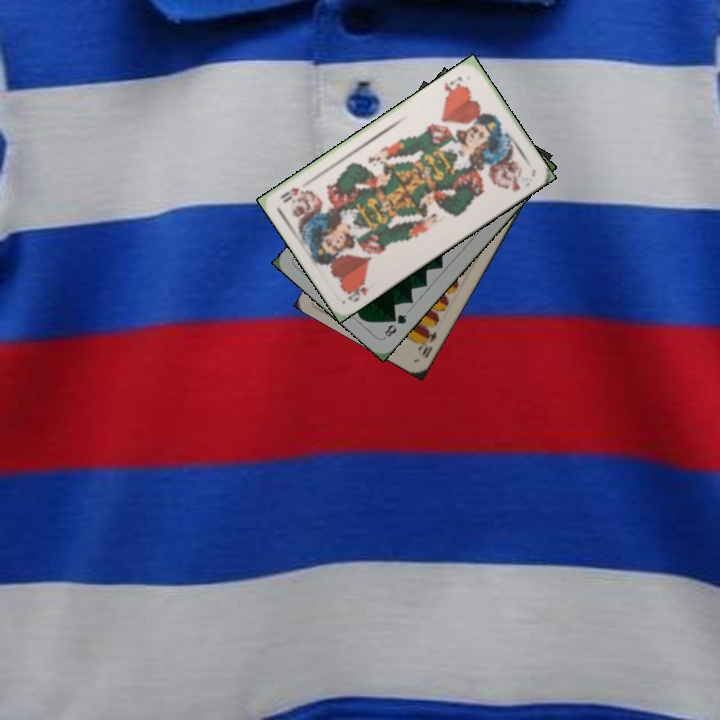E10: (413, 326, 439, 360)
G8: (379, 310, 410, 341)
HO: (344, 276, 371, 305), (440, 72, 466, 101)
